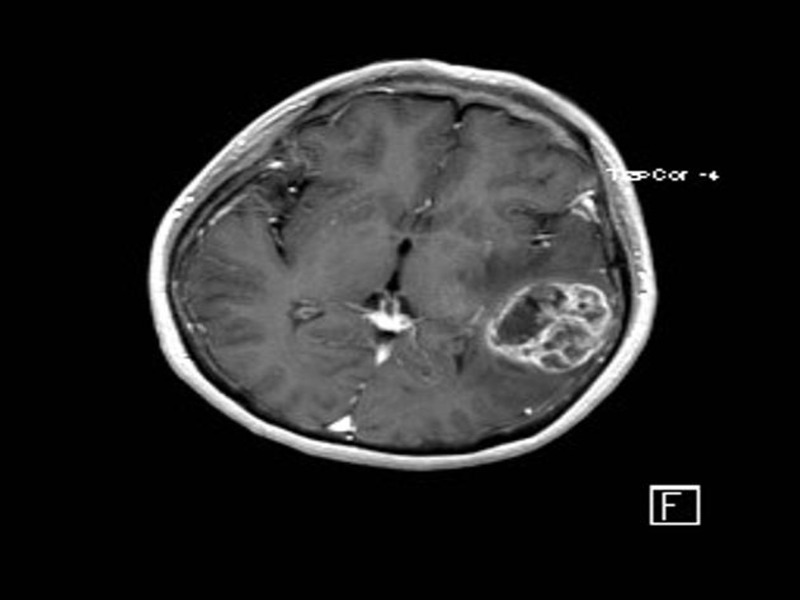tumor: (479, 267, 615, 378)
